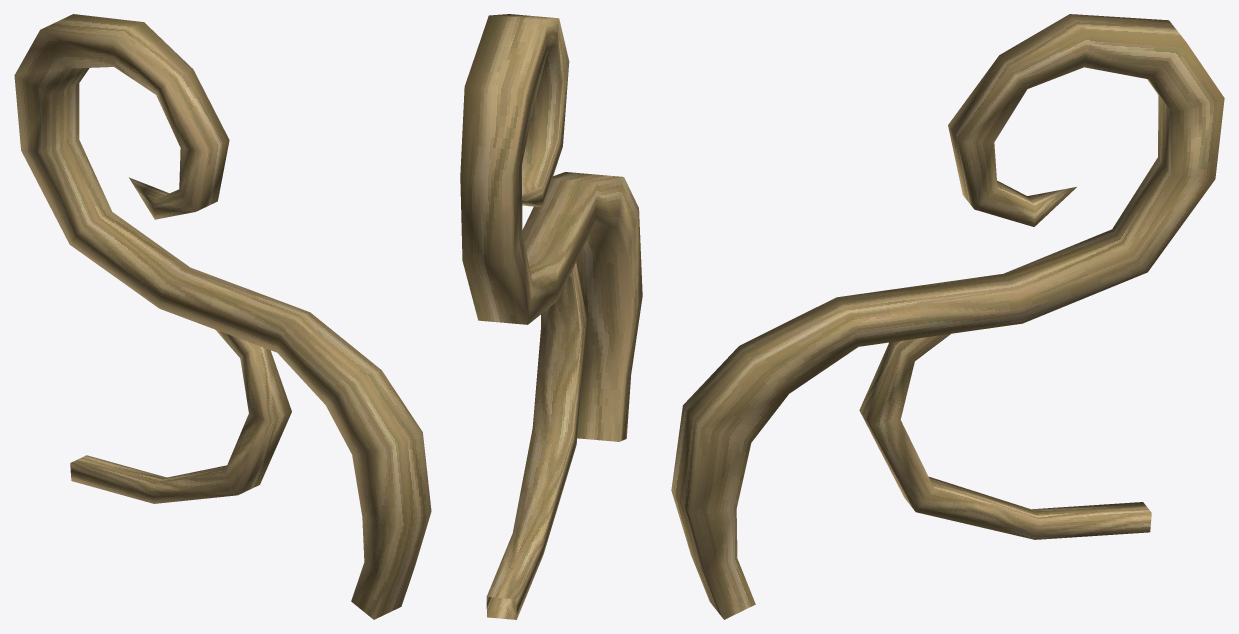
The model's file is EKH_BARRELROOM_PS_JA1_LOFT02.fbx.
The picture shows the model from 3 angles, left to right: view 1: azimuth 30°, elevation 25°; view 2: azimuth 150°, elevation 25°; view 3: azimuth 270°, elevation 25°; orthographic projection. The views are drawn at different scales.
Parts seen in each view (by area): view 1: EKH_BARRELROOM_PS_JA1_LOFT02; view 2: EKH_BARRELROOM_PS_JA1_LOFT02; view 3: EKH_BARRELROOM_PS_JA1_LOFT02.
Boxes of the visible parts, <box> form: EKH_BARRELROOM_PS_JA1_LOFT02: <box>14,14,431,619</box>; EKH_BARRELROOM_PS_JA1_LOFT02: <box>460,14,642,619</box>; EKH_BARRELROOM_PS_JA1_LOFT02: <box>671,14,1224,619</box>.
Size of the model in its own units: 4436 by 11415 by 10697.
Materials: 1 (1 with a texture image).
